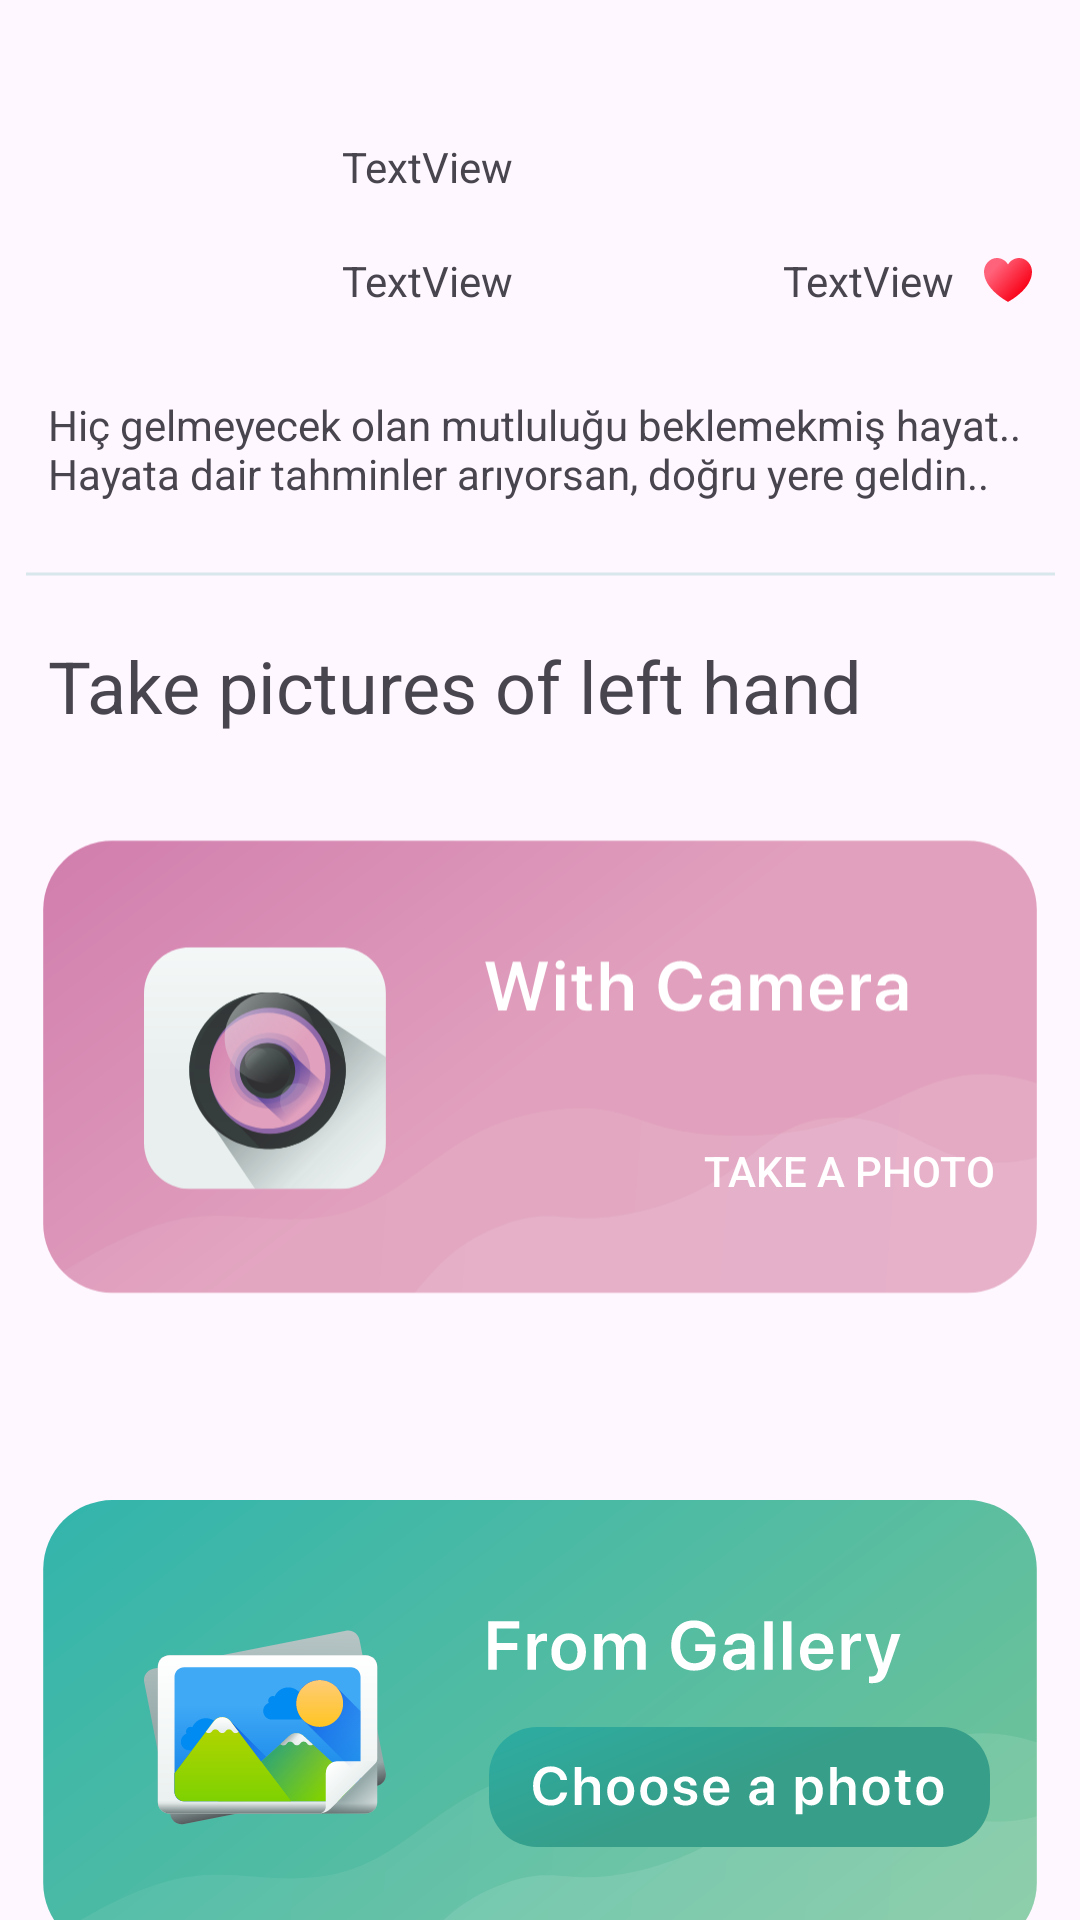

Icon click points for this 1080x1920 phone screenshot, format [x,y]:
hearticon: [1008,280]
